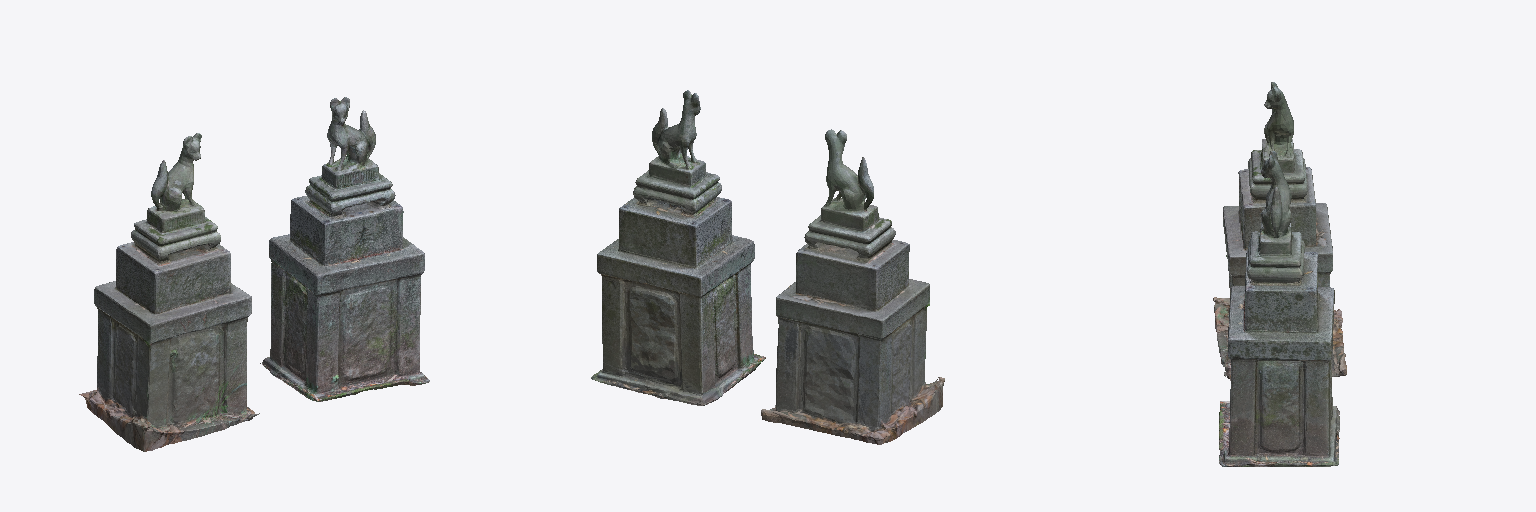
3 views of the same model, side by side, from view 1: azimuth 30°, elevation 25°; view 2: azimuth 150°, elevation 25°; view 3: azimuth 270°, elevation 25° (orthographic).
Parts seen in each view (by area): view 1: Kitsune1TEST2:Mesh1; view 2: Kitsune1TEST2:Mesh1; view 3: Kitsune1TEST2:Mesh1.
Part boxes in pixels (left/top/right/bottom): Kitsune1TEST2:Mesh1: left=79, top=97, right=429, bottom=451; Kitsune1TEST2:Mesh1: left=591, top=90, right=944, bottom=444; Kitsune1TEST2:Mesh1: left=1213, top=82, right=1346, bottom=466.
Bounding box in the file's own units: 184 × 167 × 71.83.
Materials: 2 (2 with a texture image).